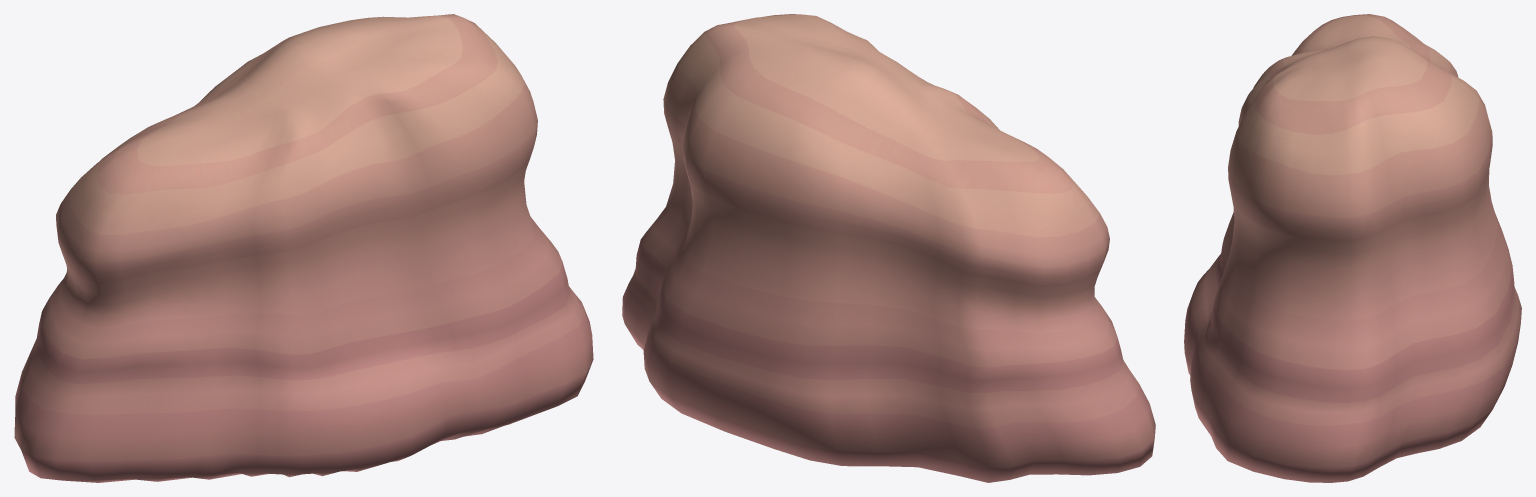
File: Desert_Rocks_01.fbx
3 renders of one model, left to right at view 1: azimuth 30°, elevation 25°; view 2: azimuth 150°, elevation 25°; view 3: azimuth 270°, elevation 25°, orthographic. The views are drawn at different scales.
Parts seen in each view (by area): view 1: desert_rocks_09; view 2: desert_rocks_09; view 3: desert_rocks_09.
Part boxes in pixels (x1,y1,x2,y2): desert_rocks_09: [14, 14, 593, 482]; desert_rocks_09: [622, 14, 1155, 482]; desert_rocks_09: [1184, 14, 1521, 482].
Size of the model in its own units: 26.08 by 16.99 by 14.67.
2 materials, 1 textured.
